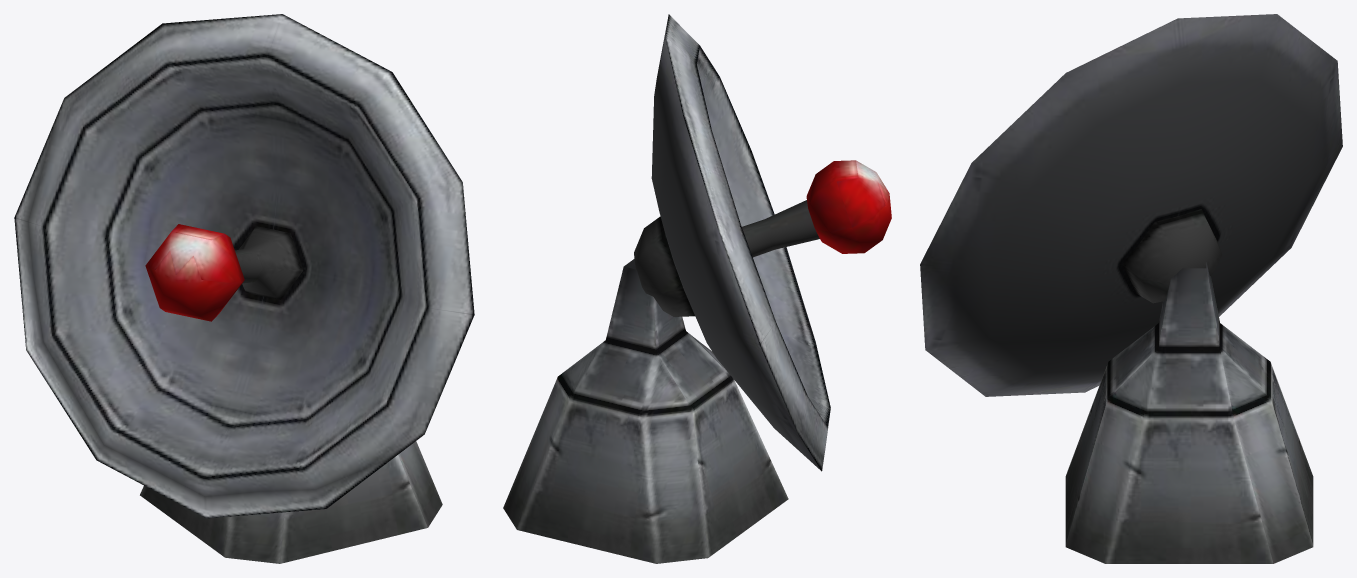
The model's file is satellitetrap.obj.
The picture shows the model from 3 angles, left to right: view 1: azimuth 30°, elevation 25°; view 2: azimuth 150°, elevation 25°; view 3: azimuth 270°, elevation 25°; orthographic projection. The views are drawn at different scales.
Size of the model in its own units: 55.07 by 80.68 by 63.59.
Materials: 1 (1 with a texture image).
